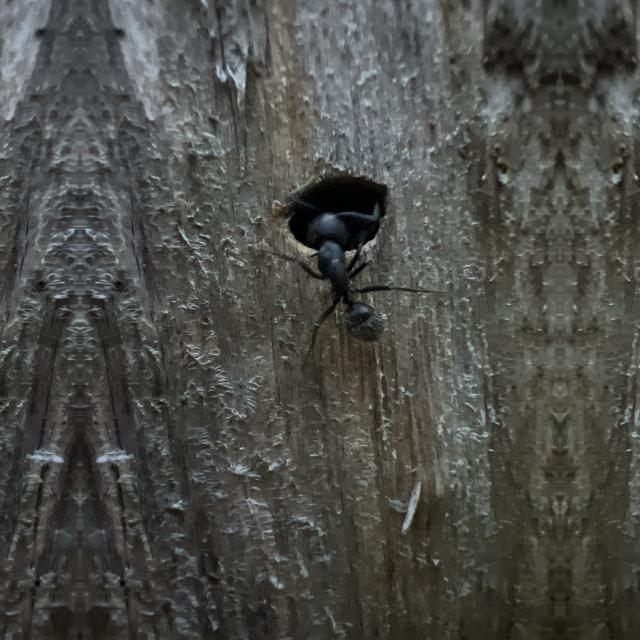Camponotus: (276, 155, 412, 377)
